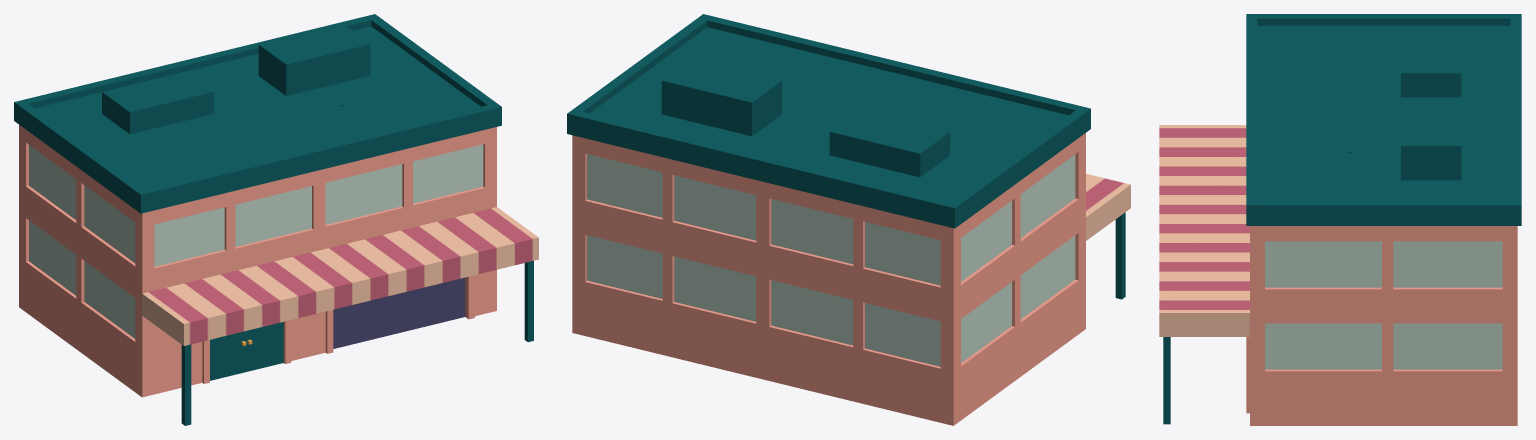
The model's file is building_test2.fbx.
3 views of the same model, side by side, from view 1: azimuth 30°, elevation 25°; view 2: azimuth 150°, elevation 25°; view 3: azimuth 270°, elevation 25° (orthographic). The views are drawn at different scales.
Visible parts, largest first — view 1: Object.001; view 2: Object.001; view 3: Object.001.
Boxes of the visible parts, left/top/right/bottom form: Object.001: left=14, top=14, right=538, bottom=425; Object.001: left=567, top=14, right=1130, bottom=425; Object.001: left=1159, top=14, right=1521, bottom=425.
Bounding box in the file's own units: 120 × 73 × 96.
